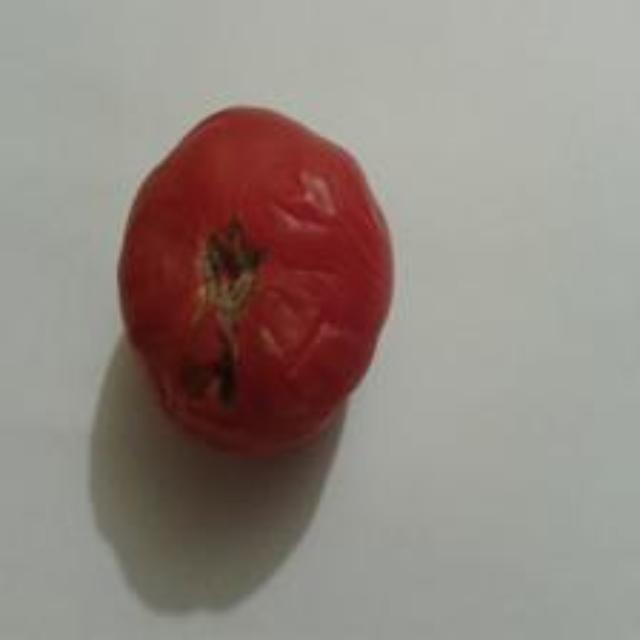defect: (116, 101, 402, 458)
